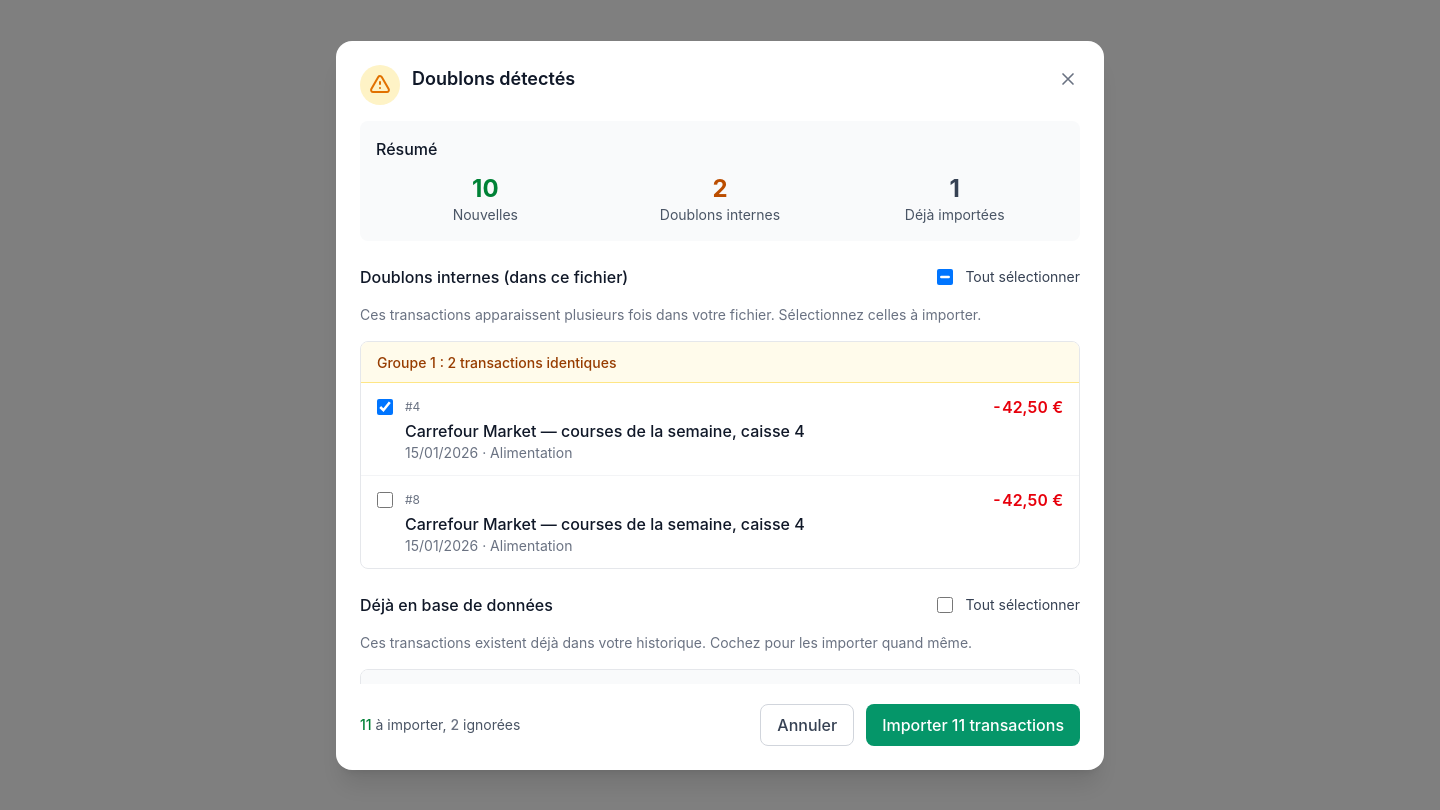
Scenario: DuplicatesReviewModal › makes the whole row the checkbox label, and keeps the full text in a title
The width and height of the screenshot is (1440, 810).
Click the checkbox named "Importer la transaction 8" at (385, 500), box [377,492,393,508]
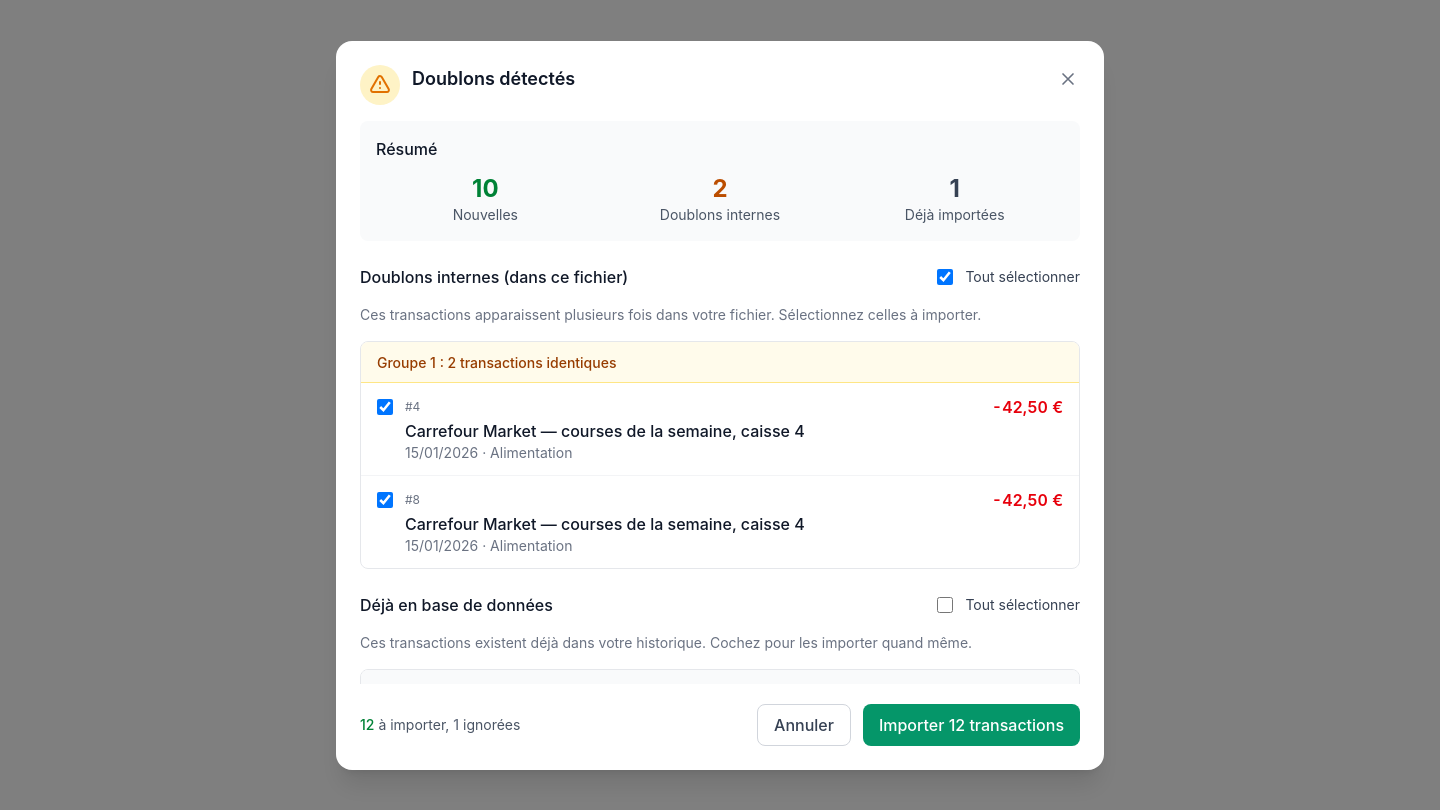
expect the element with test id "import-summary" reads "12 à importer, 1 ignorées": met, box [360,716,520,732]
